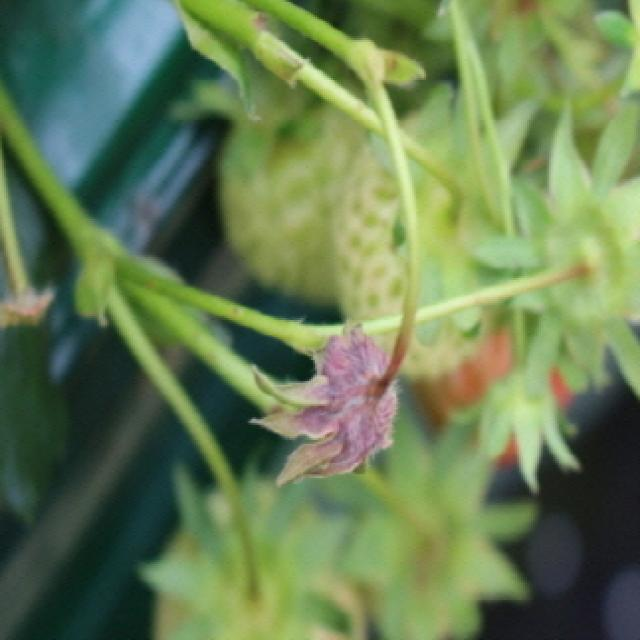Gray Mold: (249, 315, 407, 489)
